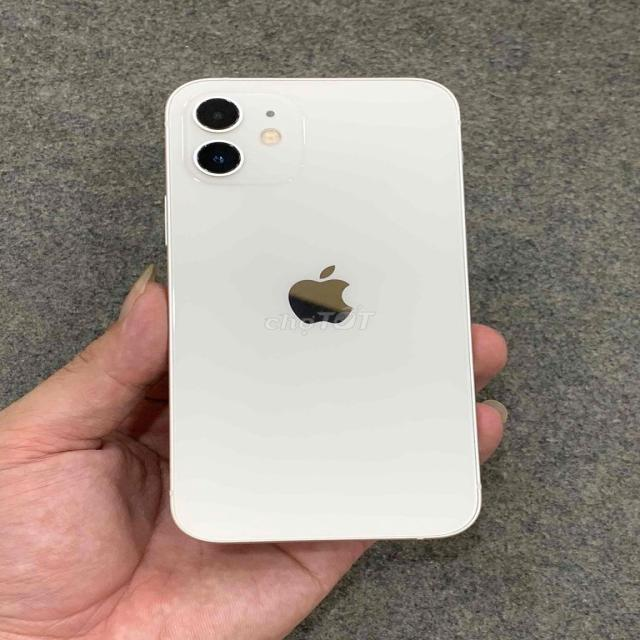gen_12_13: (147, 64, 485, 545)
